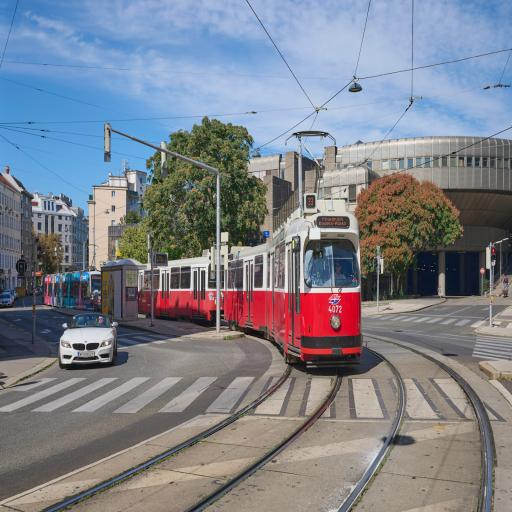E2-Tram: (139, 192, 365, 362)
